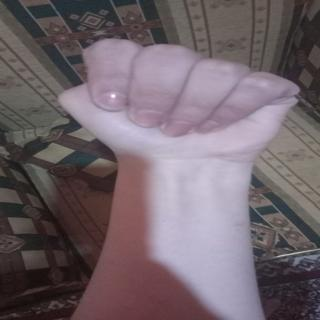SAD: (52, 27, 315, 170)
